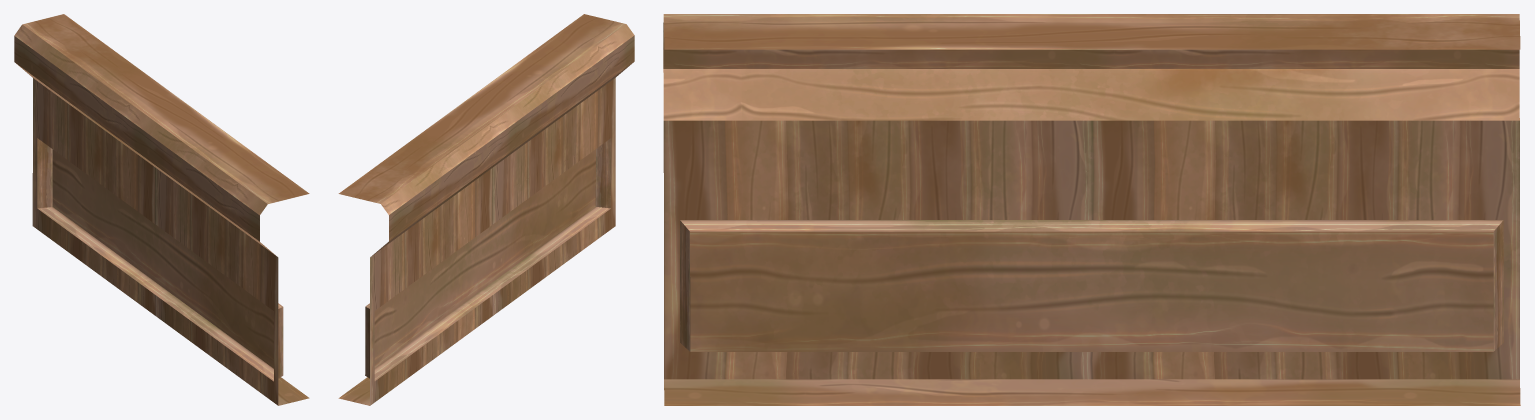
File: SM_Door_Decoration_02.fbx
The picture shows the model from 3 angles, left to right: view 1: azimuth 30°, elevation 25°; view 2: azimuth 150°, elevation 25°; view 3: azimuth 270°, elevation 25°; orthographic projection. The views are drawn at different scales.
Parts seen in each view (by area): view 1: SM_Door_Decoration_02_LOD0; view 2: SM_Door_Decoration_02_LOD0; view 3: SM_Door_Decoration_02_LOD0.
Part boxes in pixels (<box>): SM_Door_Decoration_02_LOD0: <box>14,14,309,405</box>; SM_Door_Decoration_02_LOD0: <box>338,14,634,405</box>; SM_Door_Decoration_02_LOD0: <box>663,14,1520,405</box>.
Bounding box in the file's own units: 23.57 × 200 × 91.74.
Materials: 1 (1 with a texture image).
